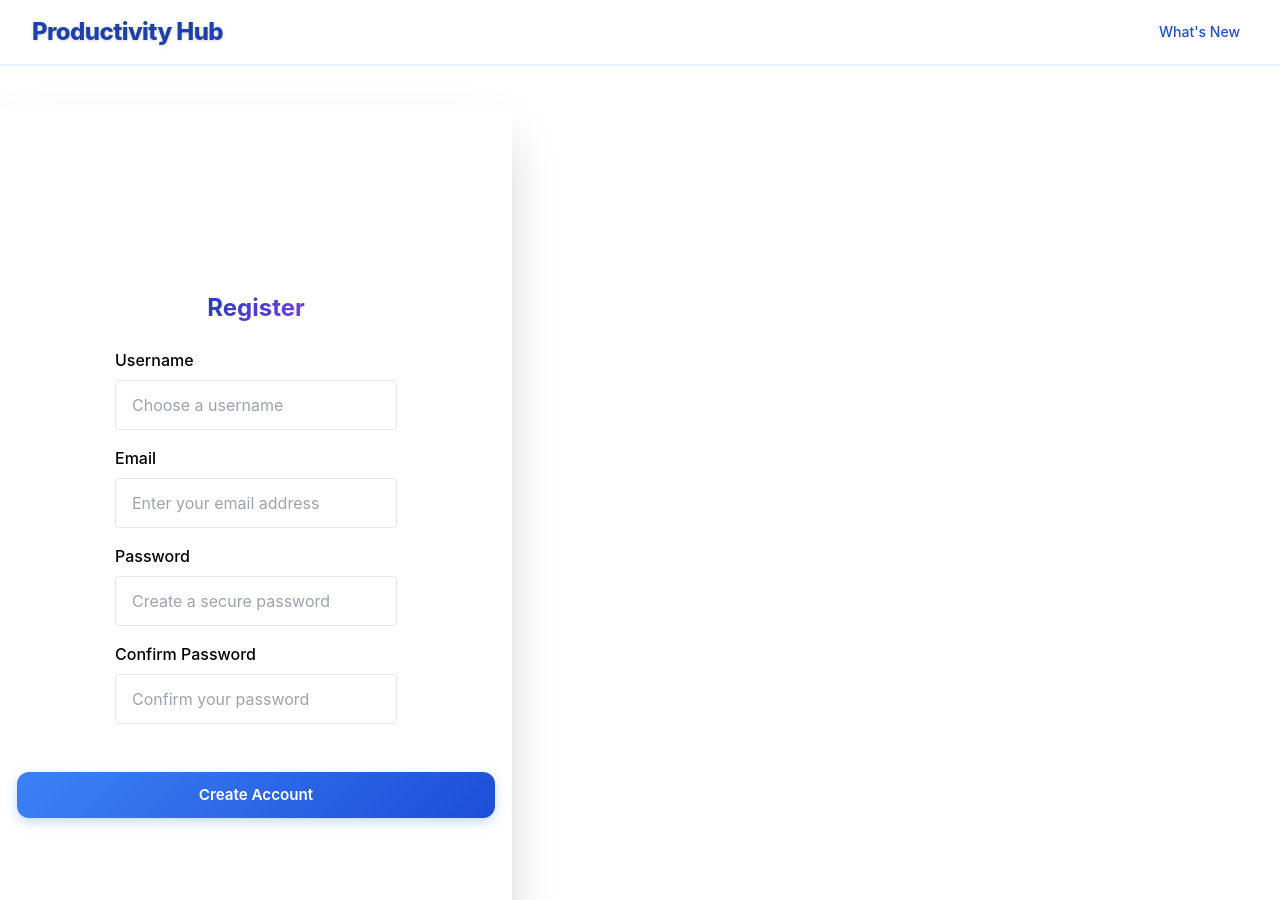
Test: RegisterPage › Error Handling › displays network error when fetch fails
Step 1. Type "testuser" into the field labelled "Username" → [256, 405], box [115,380,397,430]
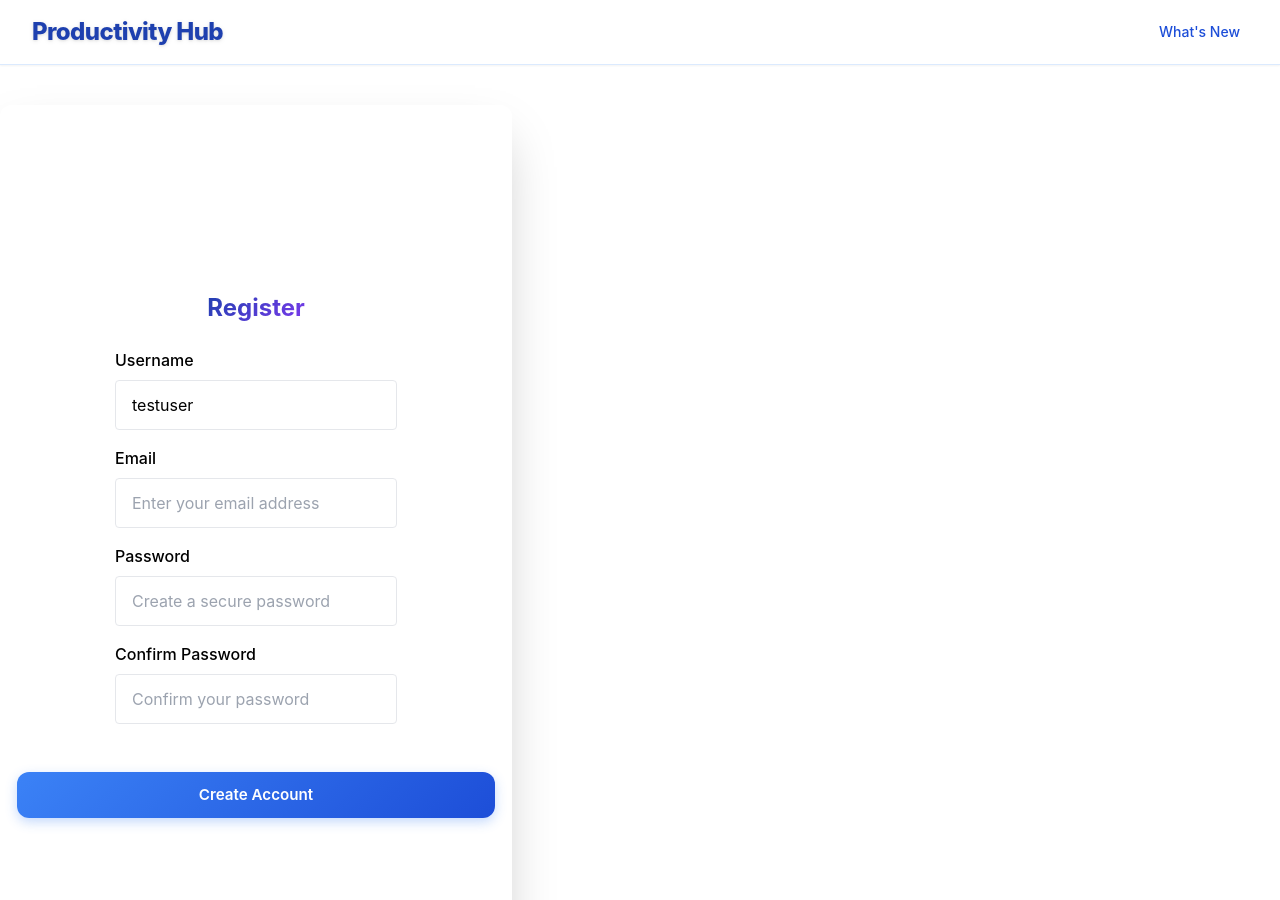
Step 2. Type "test@example.com" into the field labelled "Email" → [256, 503], box [115,478,397,528]
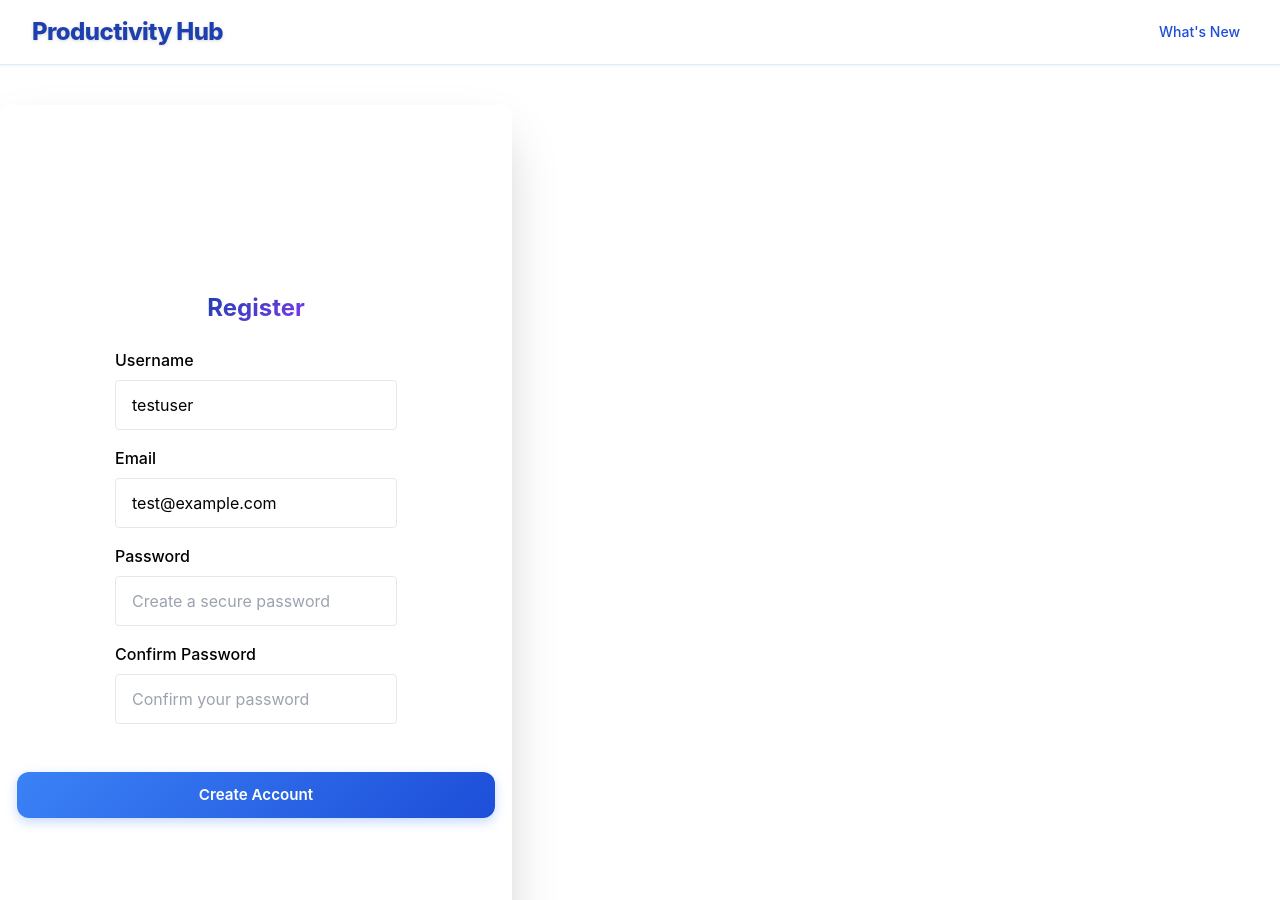
Step 3. Type "password123" into the password field labelled "Password" → [256, 601], box [115,576,397,626]
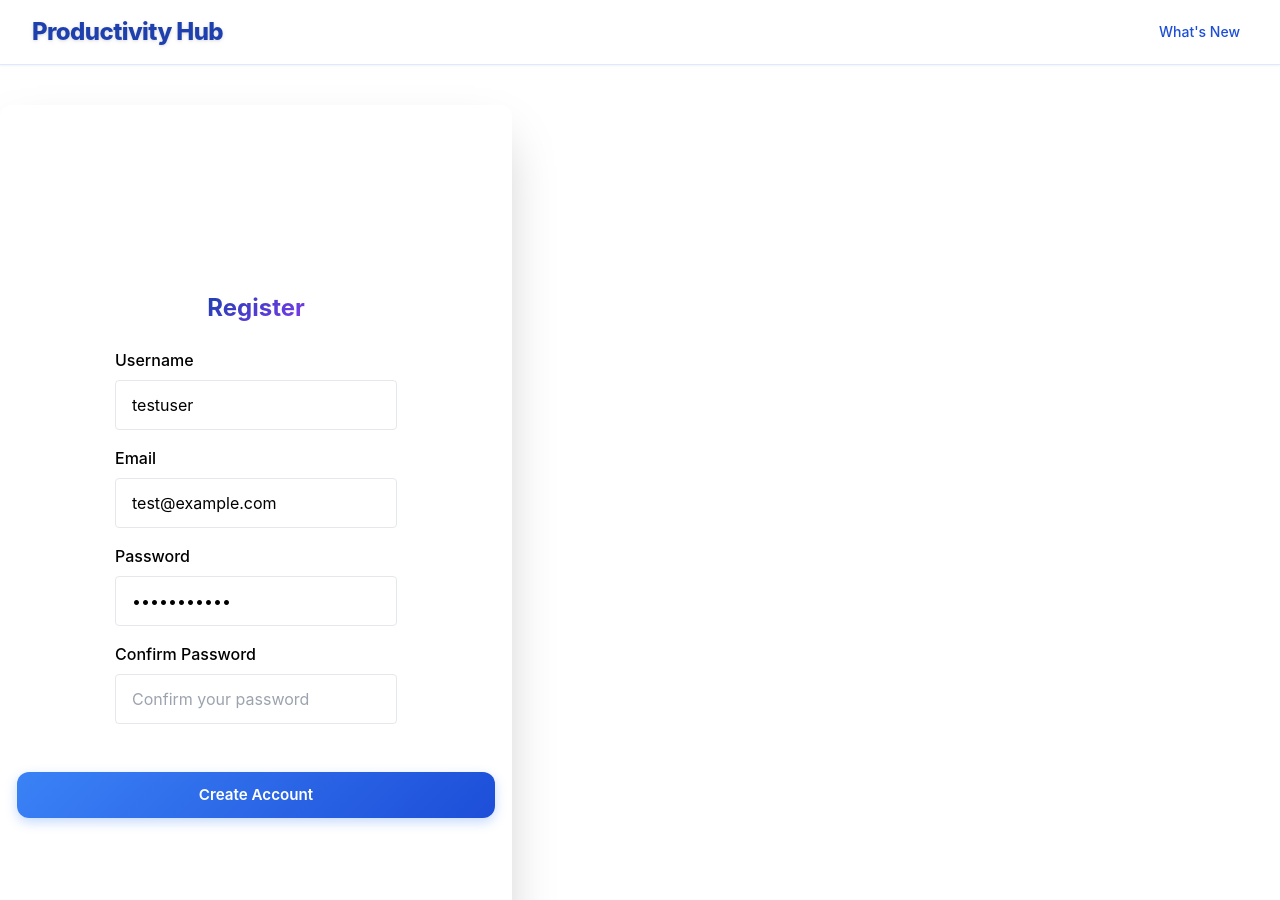
Step 4. Type "password123" into the password field labelled "Confirm Password" → [256, 699], box [115,674,397,724]
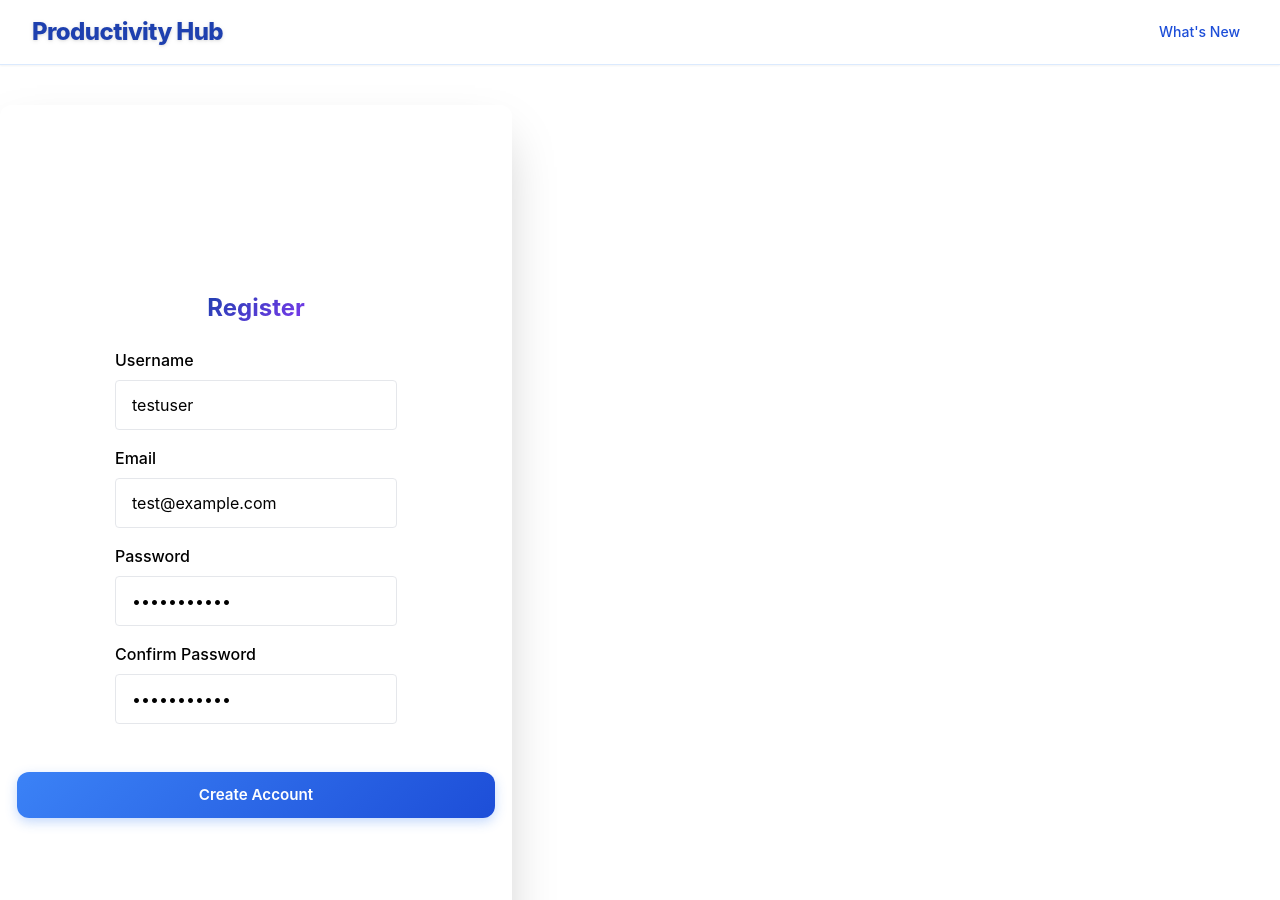
Step 5. Click the button "Create Account" → [256, 795], box [17,772,495,818]
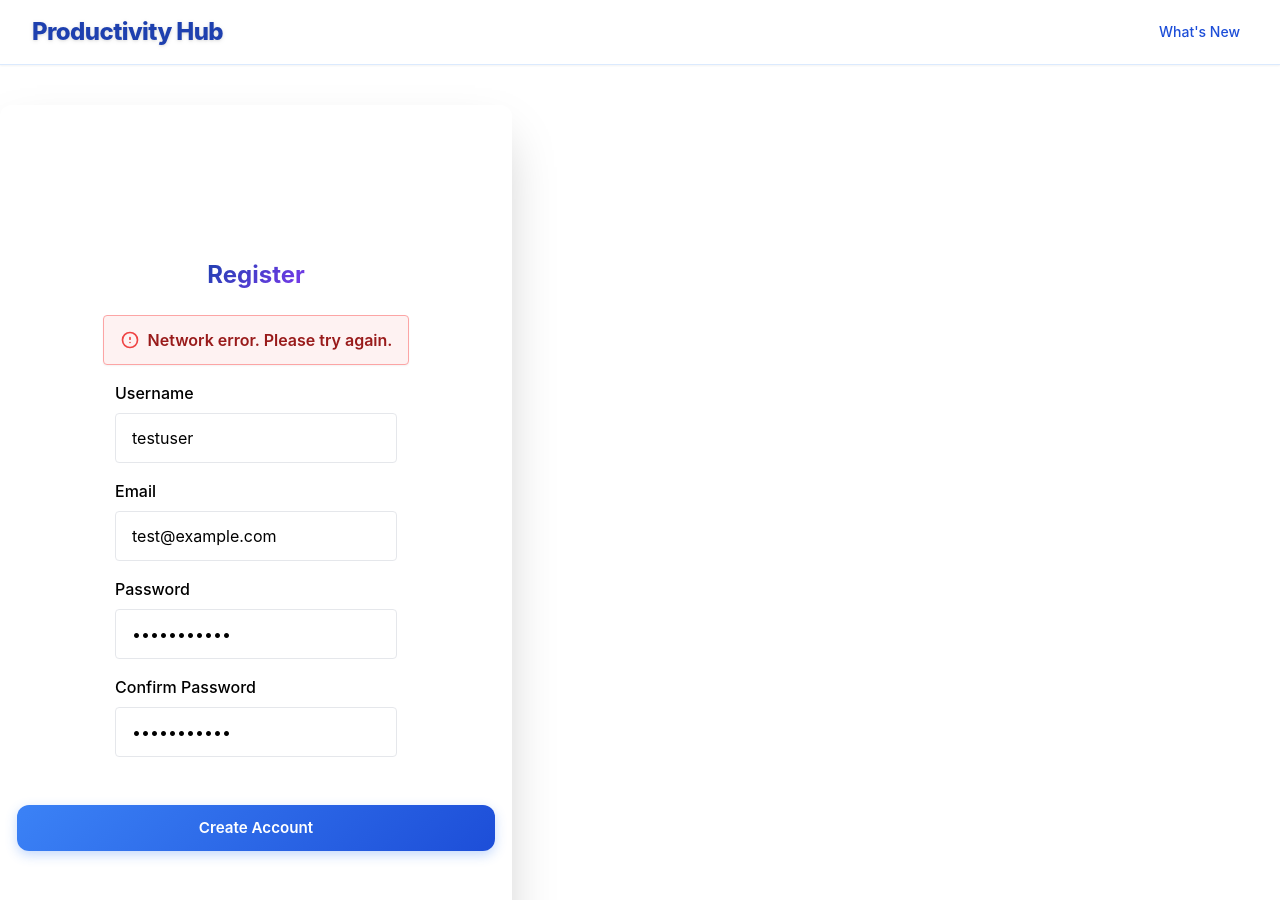
Expected: the text "Network error. Please try again." is shown, [148,328,392,352]
